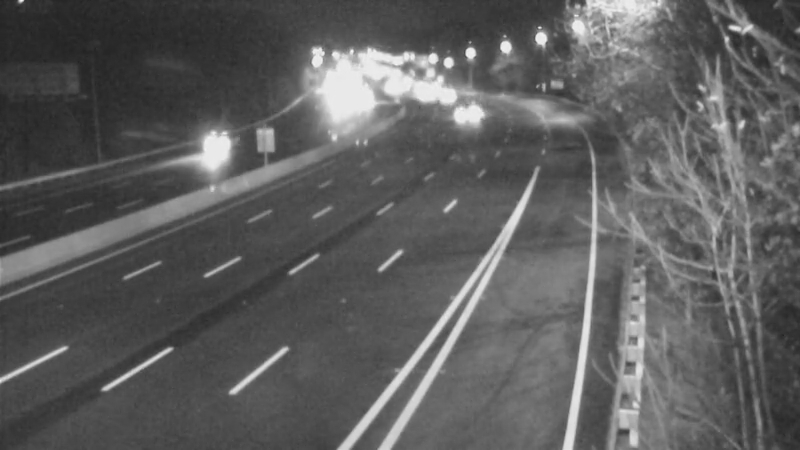vehicle: (440, 86, 490, 136), (192, 118, 242, 168)
